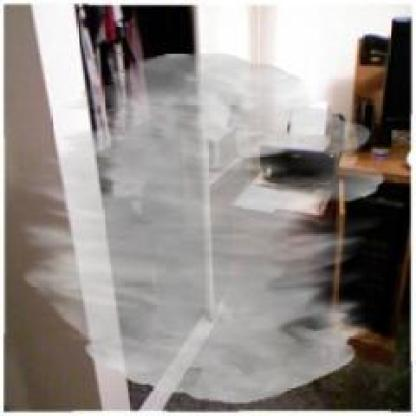Smoke: (18, 51, 384, 403)
